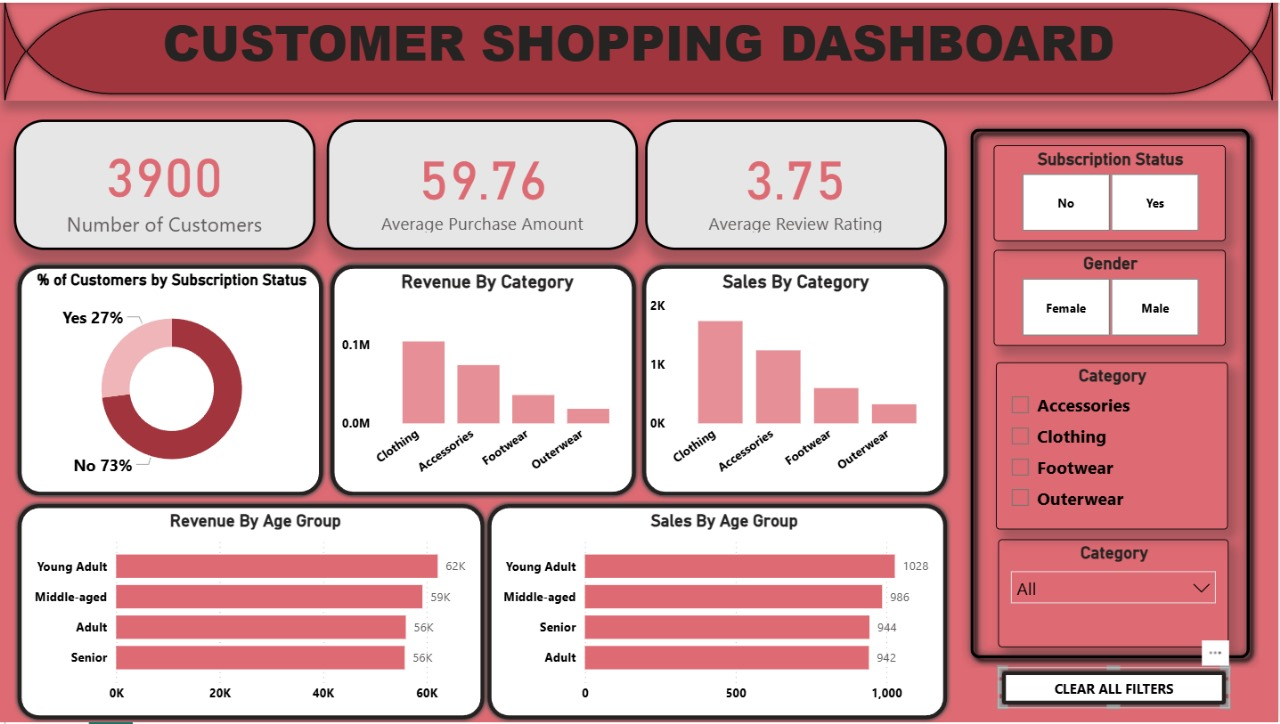

This screenshot's page, from the dashboard's own definition file:
{"tool":"powerbi","page":{"name":"Page 1","canvas":[1280,720],"ordinal":0},"visuals":[{"type":"card","fields":{"Values":["public customer.Number of Customers"]},"box":[15.7,117.1,301.4,130],"z":0},{"type":"card","fields":{"Values":["public customer.Average Purchase Amount"]},"box":[328.6,117.1,311.4,130],"z":1000},{"type":"card","fields":{"Values":["public customer.Average Review Rating"]},"box":[647.1,117.1,301.4,130],"z":2000},{"type":"shape","box":[0,0,1280.3,97.4],"z":3000},{"type":"textbox","box":[0,0,1280.3,97.4],"z":4000},{"type":"shape","box":[15.7,258.6,312.9,238.6],"z":5000},{"type":"donutChart","title":"%  of Customers by Subscription Status","fields":{"Category":["public customer.subscription_status"],"Y":["CountNonNull(public customer.customer_id)"]},"box":[30,268.6,287.1,218.6],"z":6000},{"type":"shape","box":[328.6,258.6,312.9,238.6],"z":7000},{"type":"shape","box":[640,258.6,312.9,238.6],"z":8000},{"type":"clusteredColumnChart","title":"Revenue By Category","fields":{"Y":["Sum(public customer.purchase_amount_usd)"],"Category":["public customer.category"]},"box":[338.6,268.6,301.4,218.6],"z":9000},{"type":"shape","box":[15.7,497.1,474.3,222.9],"z":10000},{"type":"clusteredColumnChart","title":"Sales By Category","fields":{"Y":["public customer.Number of Customers"],"Category":["public customer.category"]},"box":[647.1,268.6,301.4,218.6],"z":11000},{"type":"shape","box":[485.7,497.1,467.1,222.9],"z":12000},{"type":"shape","box":[964.3,117.1,297.1,591.4],"z":13000},{"type":"slicer","title":"Subscription Status","fields":{"Values":["public customer.subscription_status"]},"box":[995.7,151.4,232.9,95.7],"z":14000},{"type":"slicer","title":"Gender","fields":{"Values":["public customer.gender"]},"box":[995.7,264.3,232.9,95.7],"z":15000},{"type":"slicer","title":"Category","fields":{"Values":["public customer.category"]},"box":[997.1,378.6,232.9,167.1],"z":16000},{"type":"slicer","title":"Category","fields":{"Values":["public customer.shipping_type"]},"box":[998.6,568.6,231.4,107.1],"z":17000},{"type":"barChart","title":"Revenue By Age Group","fields":{"Category":["public customer.age_group"],"Y":["Sum(public customer.purchase_amount_usd)"]},"box":[30,507.1,454.3,201.4],"z":18000},{"type":"barChart","title":"Sales By Age Group","fields":{"Category":["public customer.age_group"],"Y":["CountNonNull(public customer.customer_id)"]},"box":[498.6,507.1,454.3,201.4],"z":19000}]}

Visuals, with their boxes in screenshot pixels (x1, y1, x2, y2), scaled from the page's 1280x720 canvas onto the 1280x724 screenshot:
card - public customer.Number of Customers: (x1=16, y1=118, x2=317, y2=248)
card - public customer.Average Purchase Amount: (x1=329, y1=118, x2=640, y2=248)
card - public customer.Average Review Rating: (x1=647, y1=118, x2=948, y2=248)
shape: (x1=0, y1=0, x2=1279, y2=98)
textbox: (x1=0, y1=0, x2=1279, y2=98)
shape: (x1=16, y1=260, x2=329, y2=500)
"%  of Customers by Subscription Status" donutChart: (x1=30, y1=270, x2=317, y2=490)
shape: (x1=329, y1=260, x2=642, y2=500)
shape: (x1=640, y1=260, x2=953, y2=500)
"Revenue By Category" clusteredColumnChart: (x1=339, y1=270, x2=640, y2=490)
shape: (x1=16, y1=500, x2=490, y2=723)
"Sales By Category" clusteredColumnChart: (x1=647, y1=270, x2=948, y2=490)
shape: (x1=486, y1=500, x2=953, y2=723)
shape: (x1=964, y1=118, x2=1261, y2=712)
"Subscription Status" slicer: (x1=996, y1=152, x2=1229, y2=248)
"Gender" slicer: (x1=996, y1=266, x2=1229, y2=362)
"Category" slicer: (x1=997, y1=381, x2=1230, y2=549)
"Category" slicer: (x1=999, y1=572, x2=1230, y2=679)
"Revenue By Age Group" barChart: (x1=30, y1=510, x2=484, y2=712)
"Sales By Age Group" barChart: (x1=499, y1=510, x2=953, y2=712)
